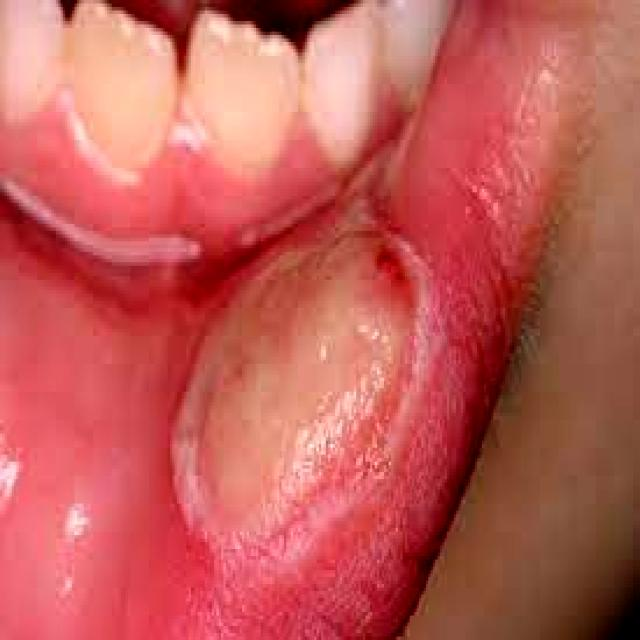ulcer: (172, 203, 421, 532)
